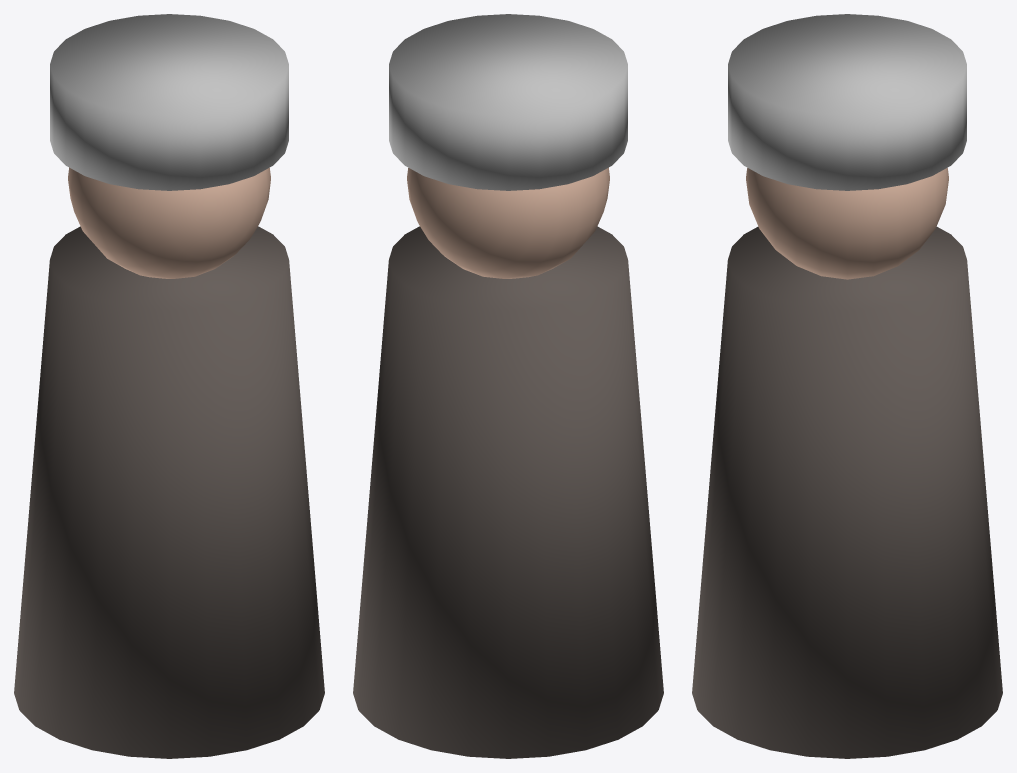
File: crew.glb
3 renders of one model, left to right at view 1: azimuth 30°, elevation 25°; view 2: azimuth 150°, elevation 25°; view 3: azimuth 270°, elevation 25°, orthographic.
Visible parts, largest first — view 1: crew; view 2: crew; view 3: crew.
Part boxes in pixels (x1,y1,x2,y2): crew: (14, 14, 324, 758); crew: (353, 14, 663, 758); crew: (692, 14, 1002, 758).
Size of the model in its own units: 0.52 by 1.16 by 0.52.
